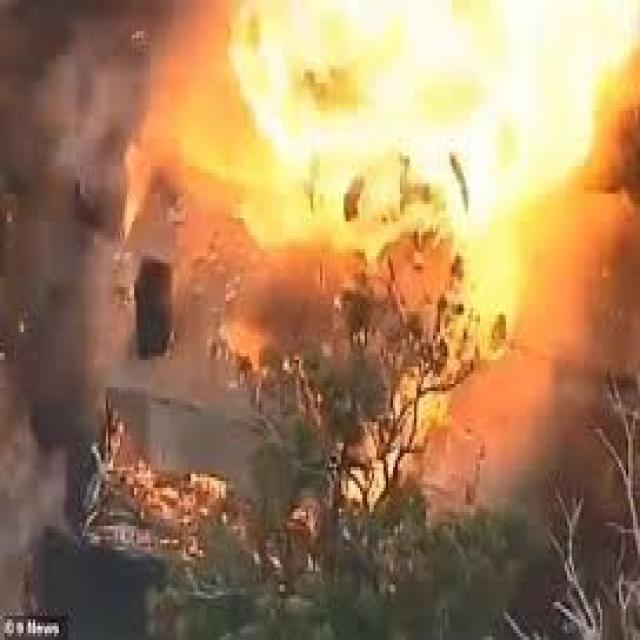Fire: (205, 3, 614, 308)
